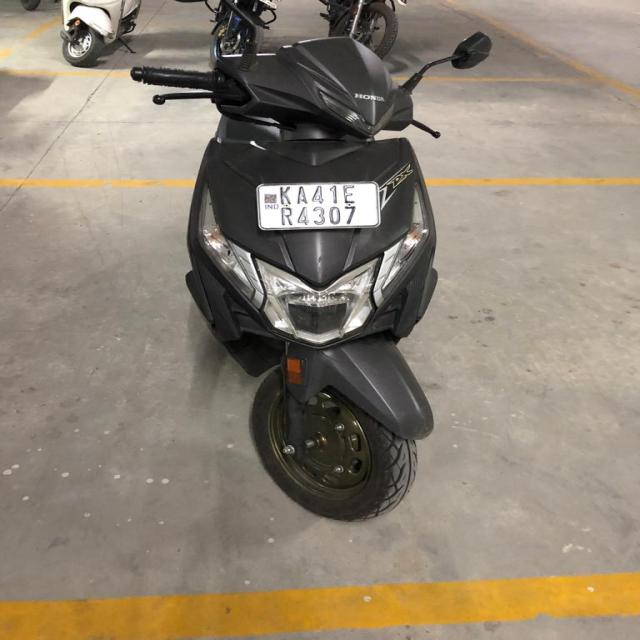license_plate: (255, 180, 381, 231)
